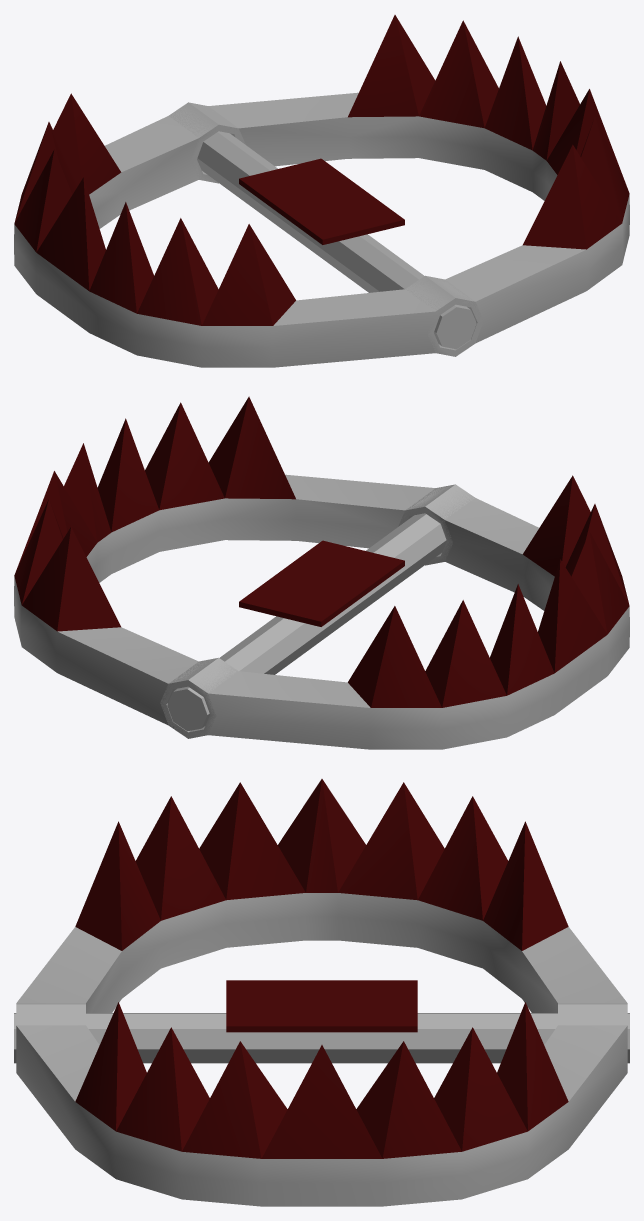
The model's file is catcher.fbx.
3 renders of one model, top to bottom at view 1: azimuth 30°, elevation 25°; view 2: azimuth 150°, elevation 25°; view 3: azimuth 270°, elevation 25°, orthographic. The views are drawn at different scales.
Parts seen in each view (by area): view 1: polySurface5; view 2: polySurface5; view 3: polySurface5.
Part boxes in pixels (bbox=[...]): polySurface5: bbox=[14, 15, 629, 367]; polySurface5: bbox=[14, 396, 629, 749]; polySurface5: bbox=[14, 779, 629, 1206].
Size of the model in its own units: 8.43 by 2.18 by 7.59.
